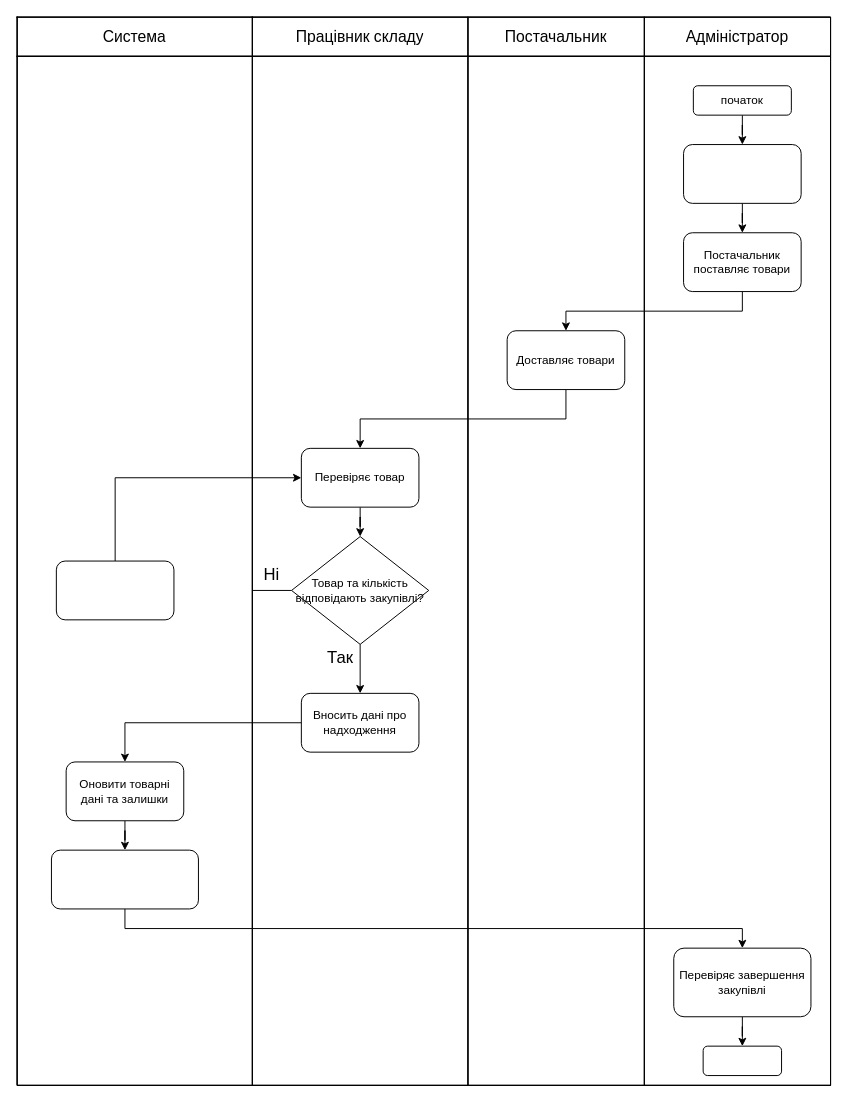
Image size: 848x1103. Some labels were removed from this diagram. Each missing label, with the centre of its shape:
"Зафіксувати розбіжності" belongs at (x=114, y=590).
"Зберегти зміни в базі даних" belongs at (x=124, y=879).
"Кінець" belongs at (x=742, y=1060).
"Створює закупівлю" belongs at (x=742, y=173).
